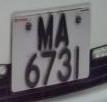1: (72, 41, 84, 86)
3: (56, 46, 75, 83)
6: (21, 51, 42, 90)
7: (39, 49, 58, 88)
A: (54, 8, 73, 53)
M: (34, 14, 57, 53)
